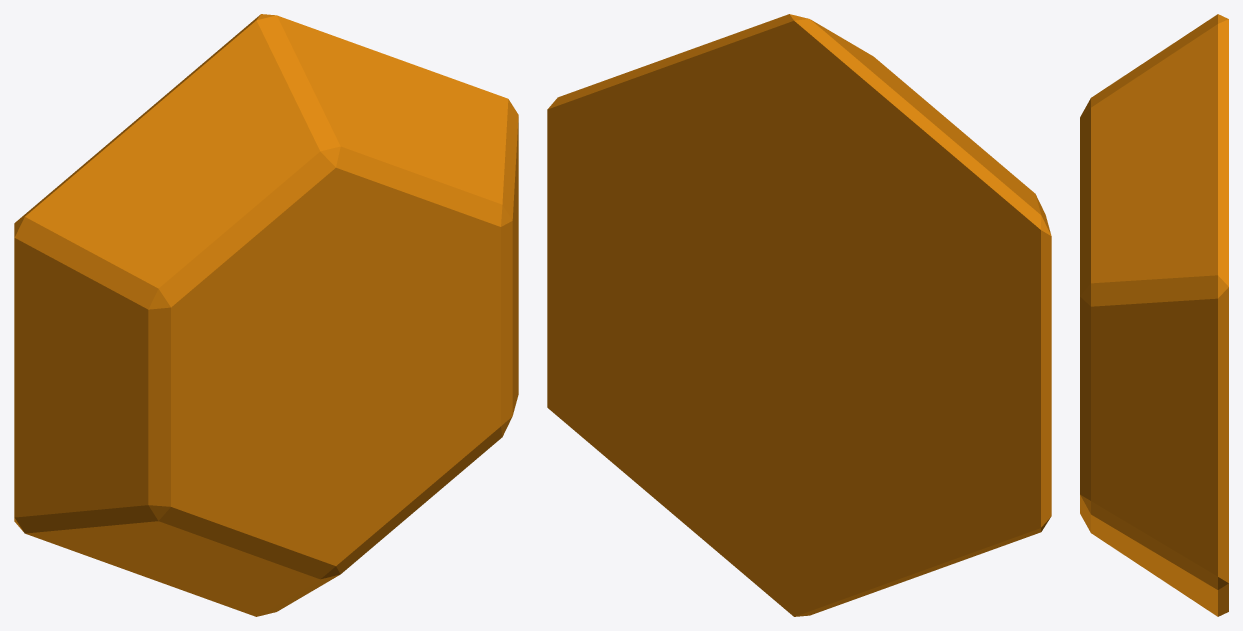
Rendered from jewel.FBX.
3 renders of one model, left to right at view 1: azimuth 30°, elevation 25°; view 2: azimuth 150°, elevation 25°; view 3: azimuth 270°, elevation 25°, orthographic.
Parts seen in each view (by area): view 1: jewel; view 2: jewel; view 3: jewel.
Part boxes in pixels (x1,y1,x2,y2): jewel: (14,14,518,616); jewel: (547,14,1051,616); jewel: (1080,14,1228,616).
Size of the model in its own units: 67.01 by 75.8 by 17.25.
